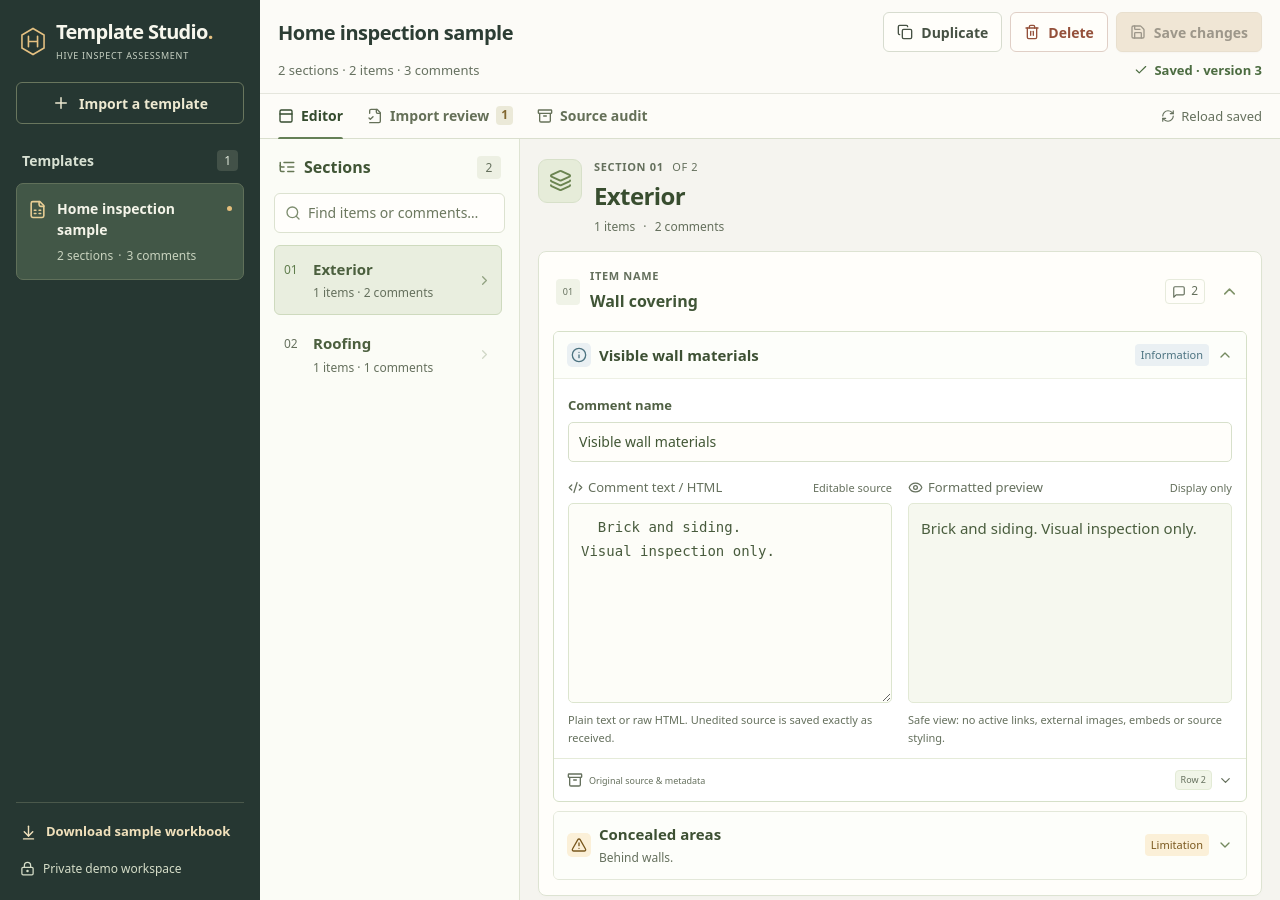
Test: end-to-end client state with unit-test API mocks › shows the empty library after deleting its last template and keeps failures recoverable
Expected: the field named "Template name" holds "Home inspection sample", [273,14,862,50]
Click the button "Delete" at (1059, 32), box [1010,12,1108,52]
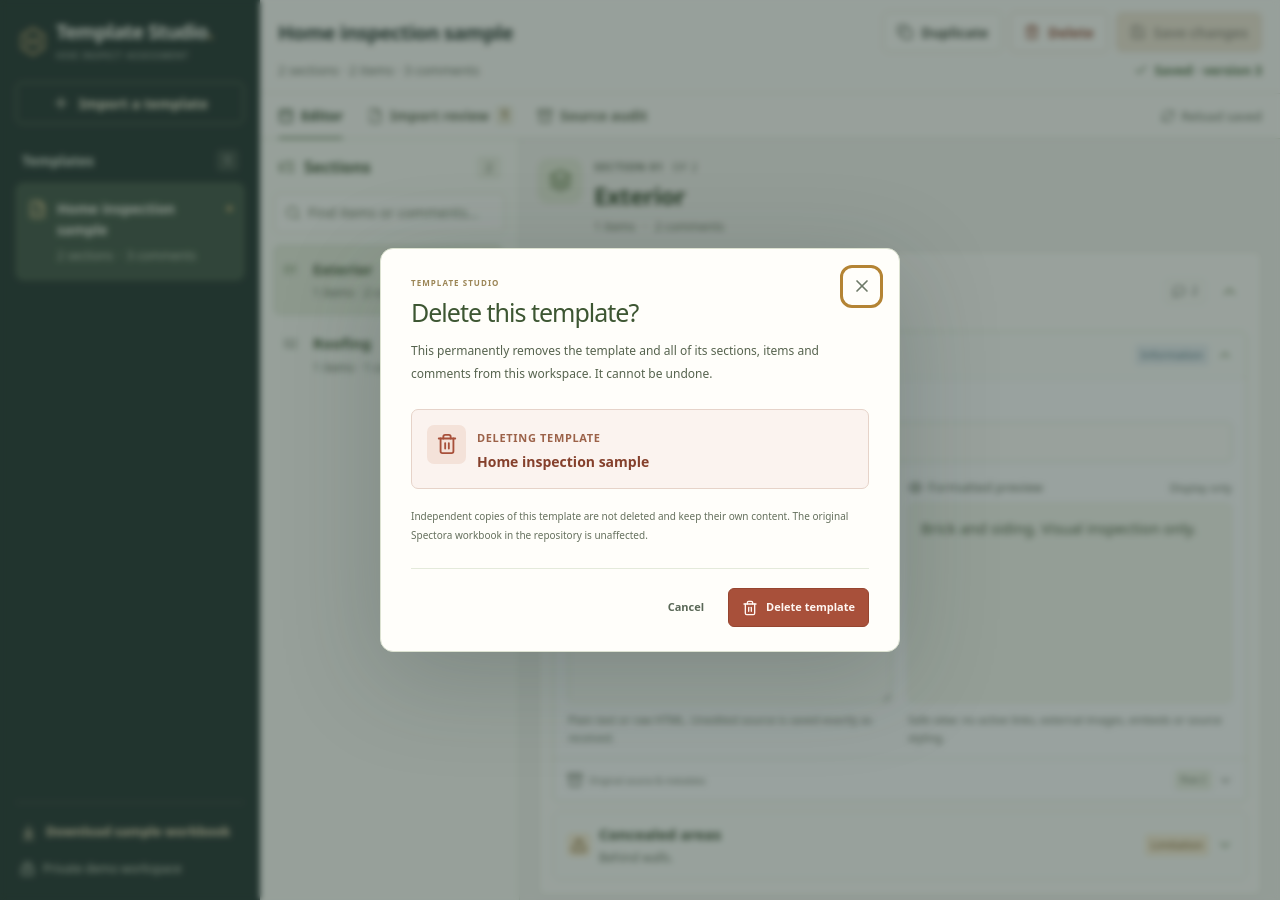
Click the button "Delete template" at (798, 608), box [728,588,869,627]
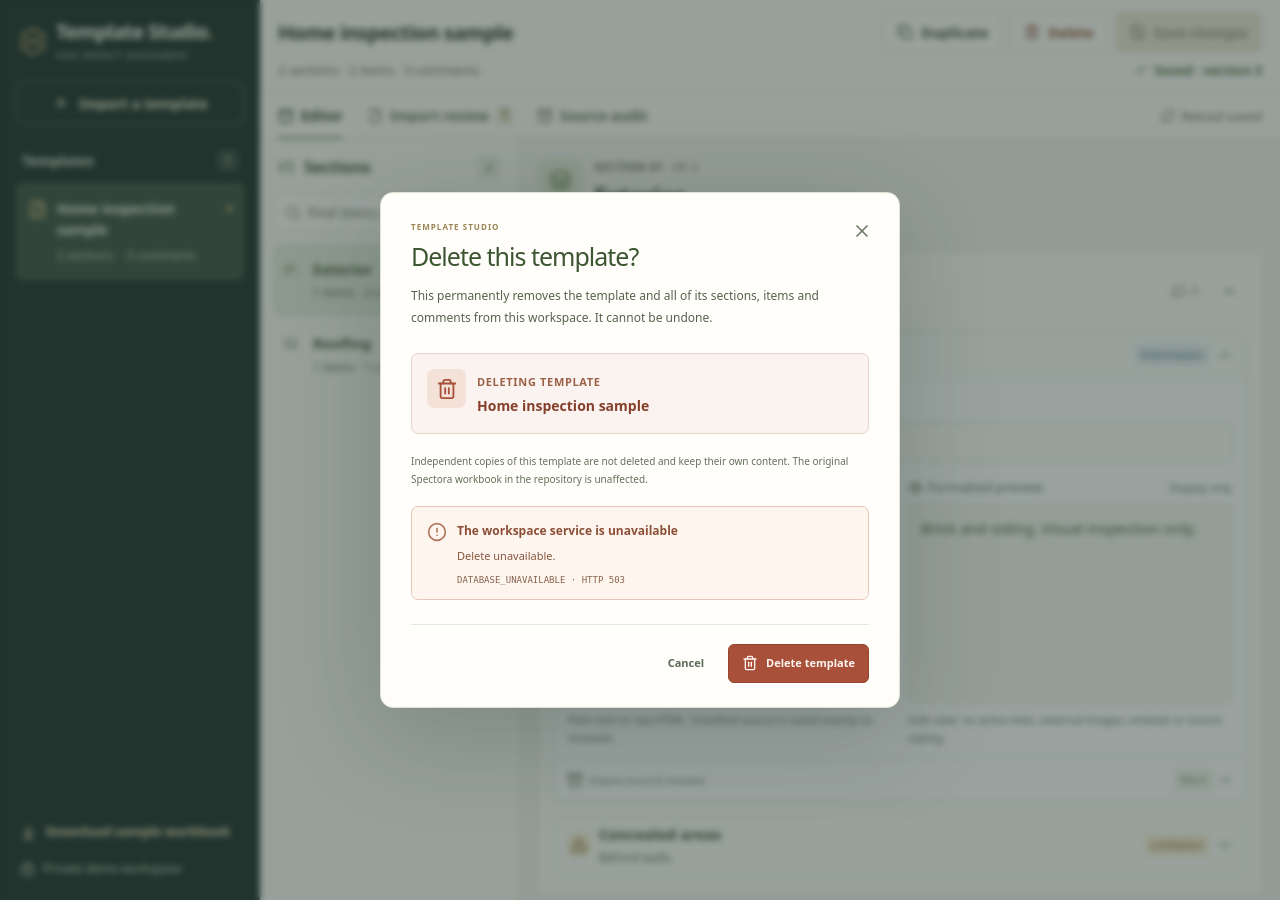
Expected: the field named "Template name" holds "Home inspection sample", [273,14,862,50]
Result: the button "Delete template" is enabled
Result: the message shows "Delete unavailable." at [457,548,556,563]
Click the button "Delete template" at (798, 663), box [728,644,869,683]
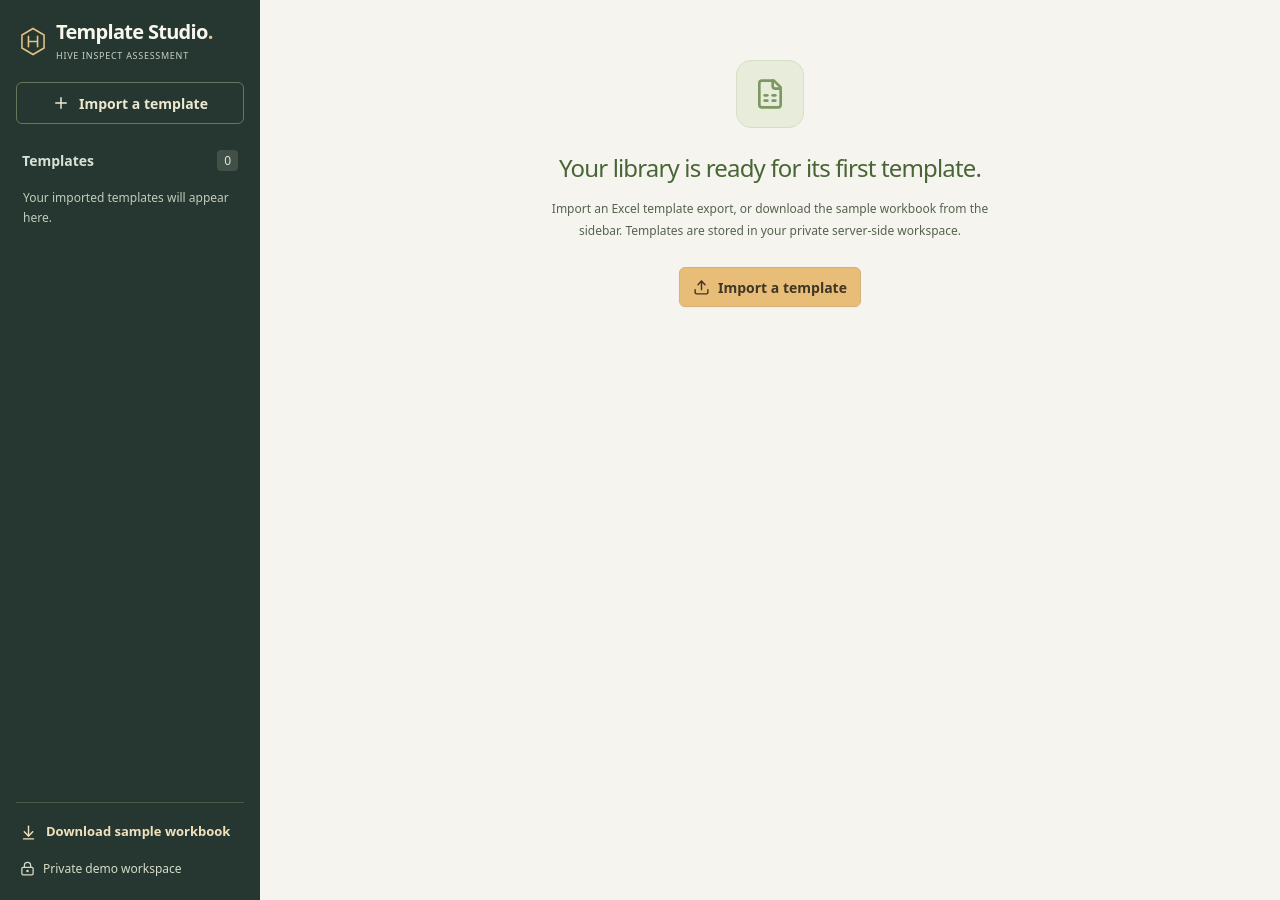
Expected: the field labelled "Template name" is not shown
Result: the heading "Your library is ready for its first template." is shown at [559,151,981,185]
